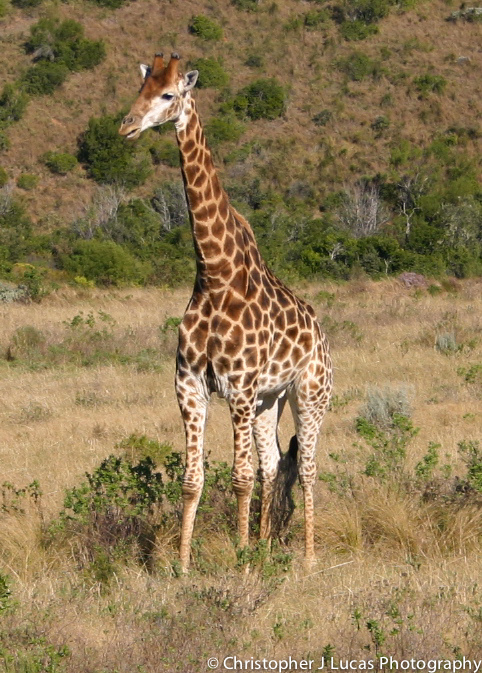giraffe: (90, 54, 345, 594)
